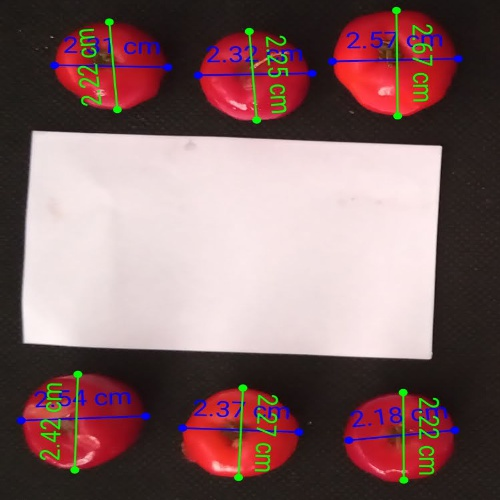acerola: (335, 10, 457, 115), (23, 374, 144, 471), (182, 389, 300, 478), (198, 33, 310, 123), (345, 392, 455, 482), (55, 23, 166, 111)
cartao: (33, 131, 443, 347)
